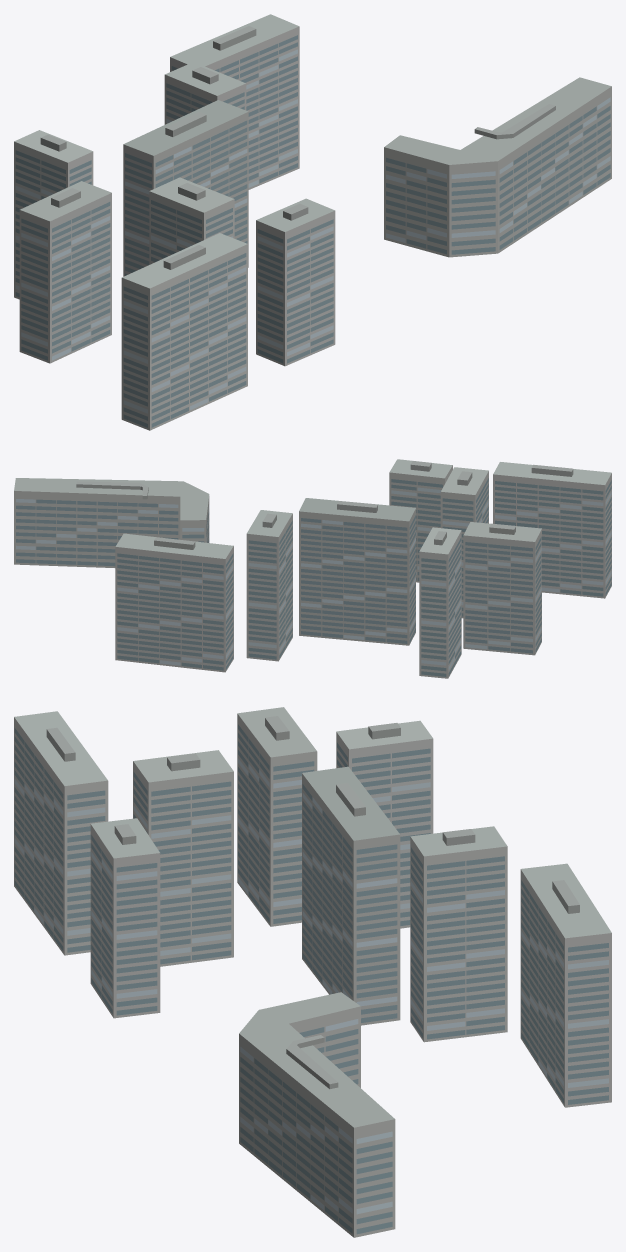
Rendered from apt-a15205104.glb.
3 renders of one model, top to bottom at view 1: azimuth 30°, elevation 25°; view 2: azimuth 150°, elevation 25°; view 3: azimuth 270°, elevation 25°, orthographic. The views are drawn at different scales.
Visible parts, largest first — view 1: apt-a15205104; view 2: apt-a15205104; view 3: apt-a15205104.
Part boxes in pixels (x1,y1,x2,y2): apt-a15205104: [14, 14, 611, 430]; apt-a15205104: [14, 459, 611, 678]; apt-a15205104: [14, 707, 611, 1237].
Bounding box in the file's own units: 236 × 59 × 165.
